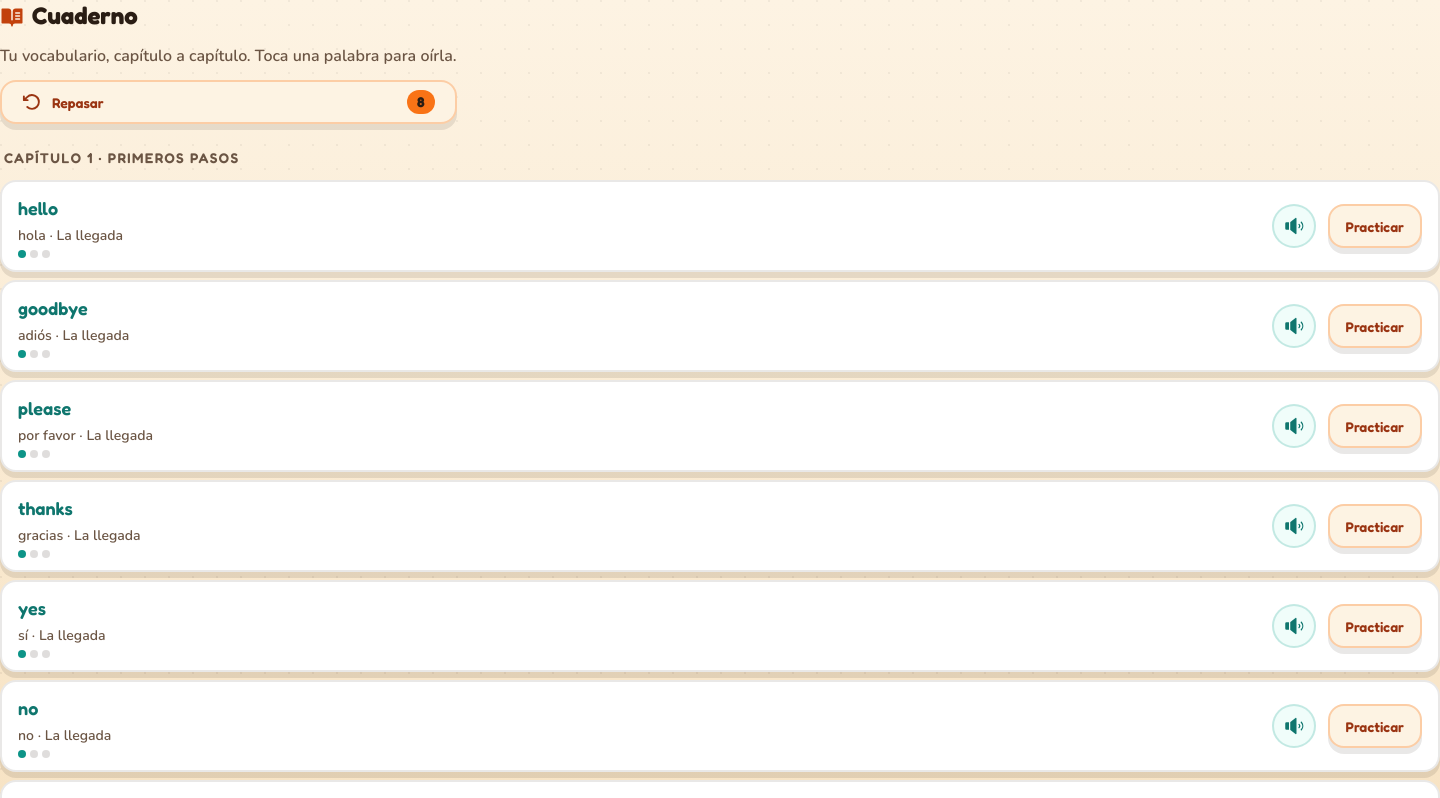
Test: Notebook practice › revealing does not touch reviews, coins or streak
Click the button with aria-label "Practicar hello". click: (1375,226)
box: [1328, 204, 1422, 248]
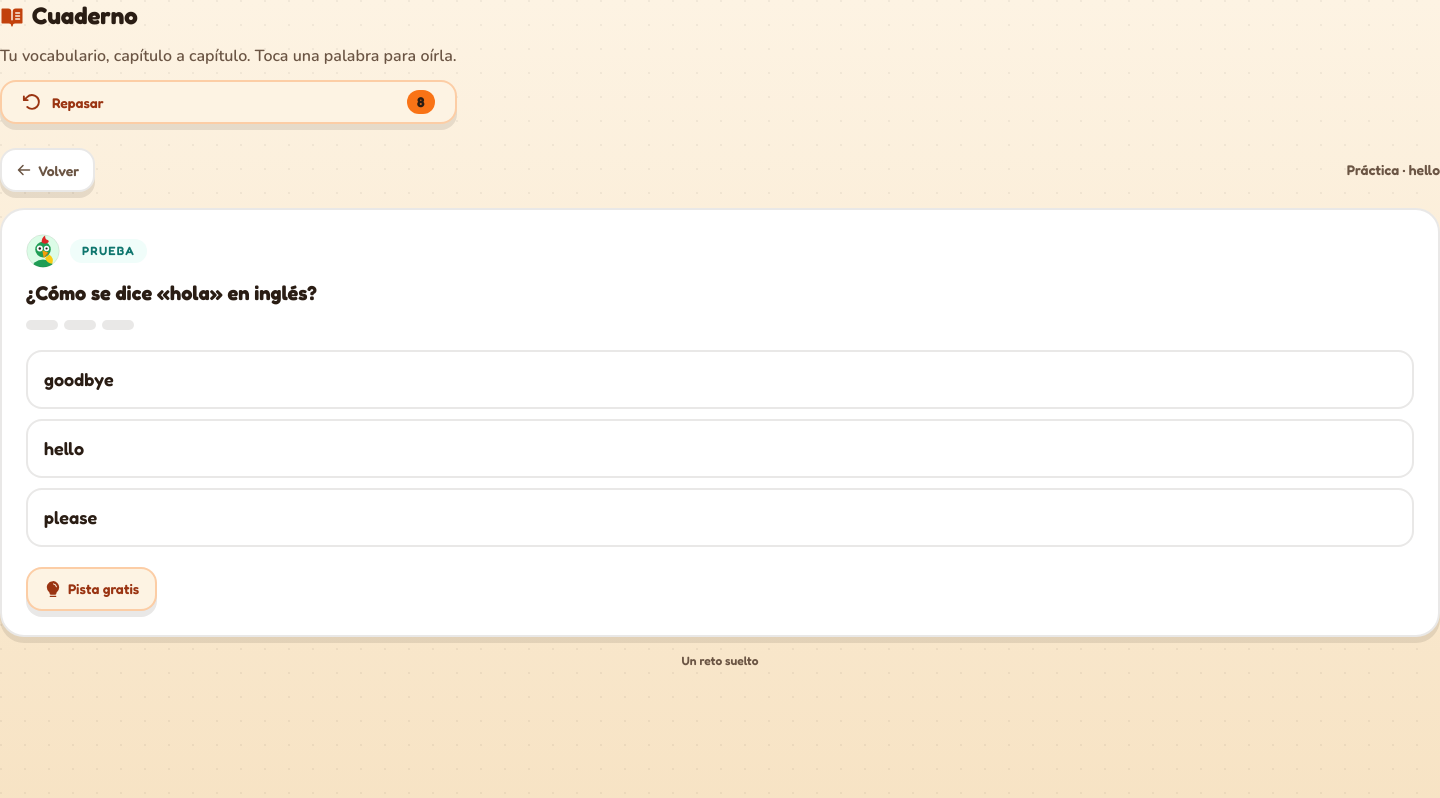
Click the button "goodbye". click: (79,378)
box: [26, 350, 1414, 408]
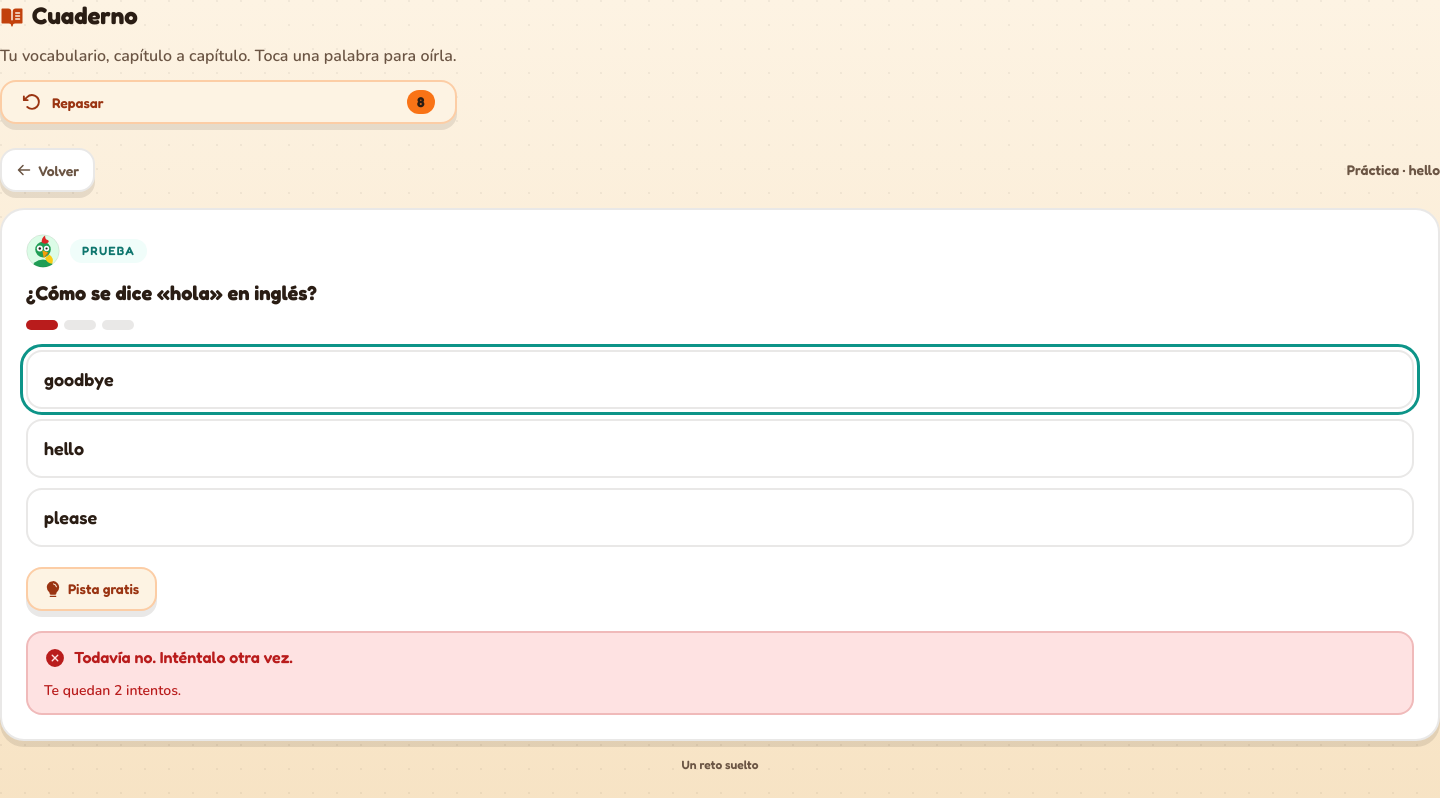
Click the button "please". click: (71,516)
box: [26, 488, 1414, 546]
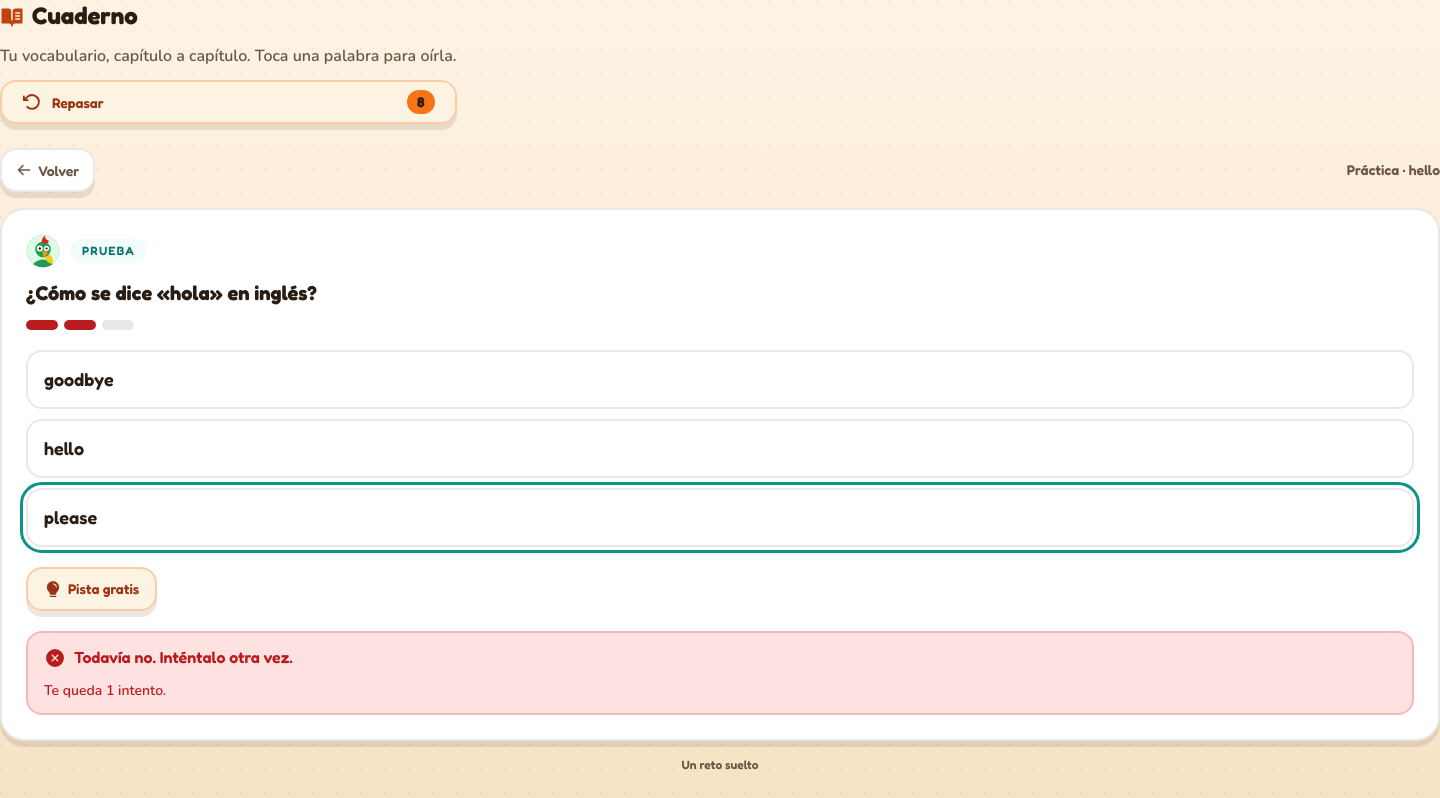
Click the button "goodbye". click: (79,378)
box: [26, 350, 1414, 408]
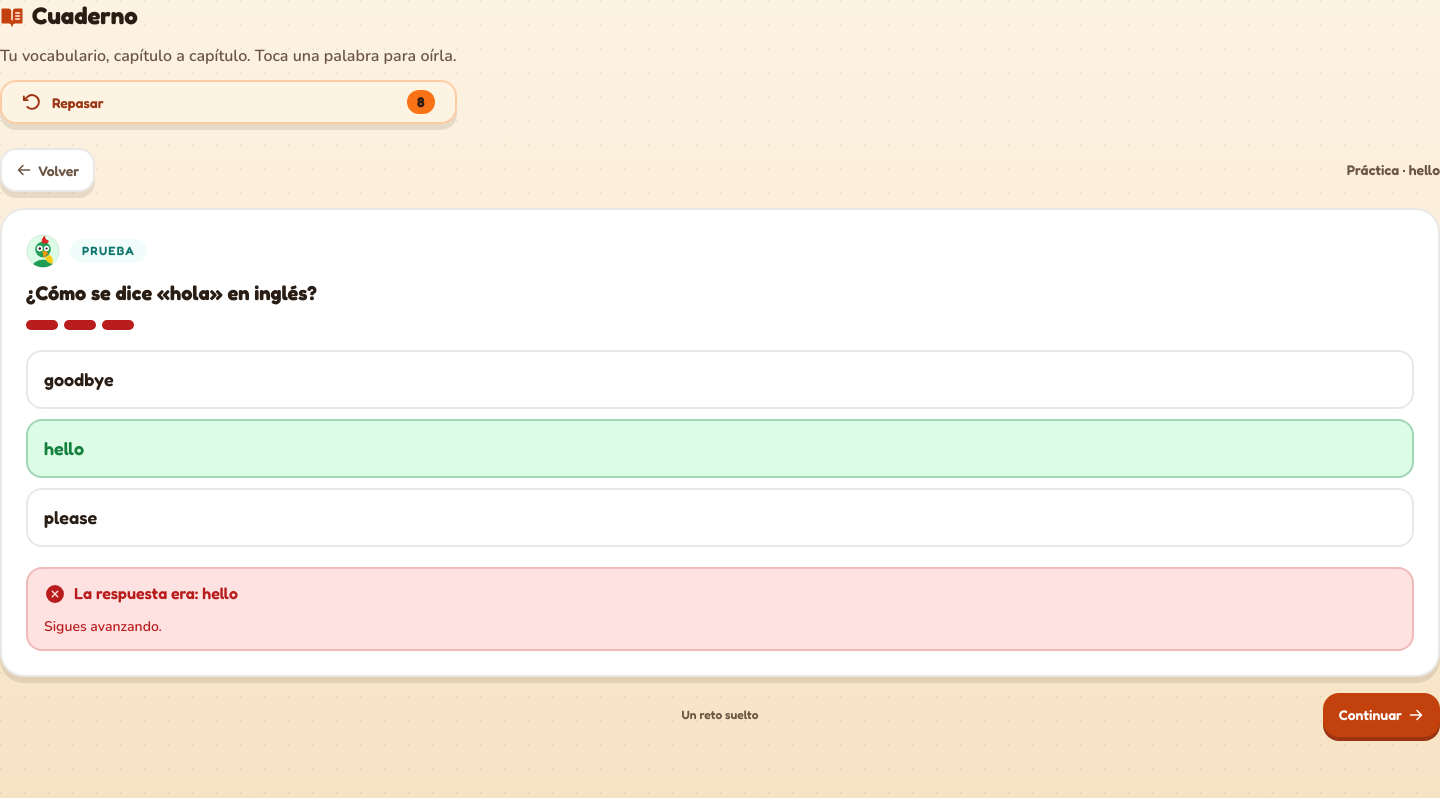
Now the button "Continuar" is shown, box [1323, 692, 1439, 736]
